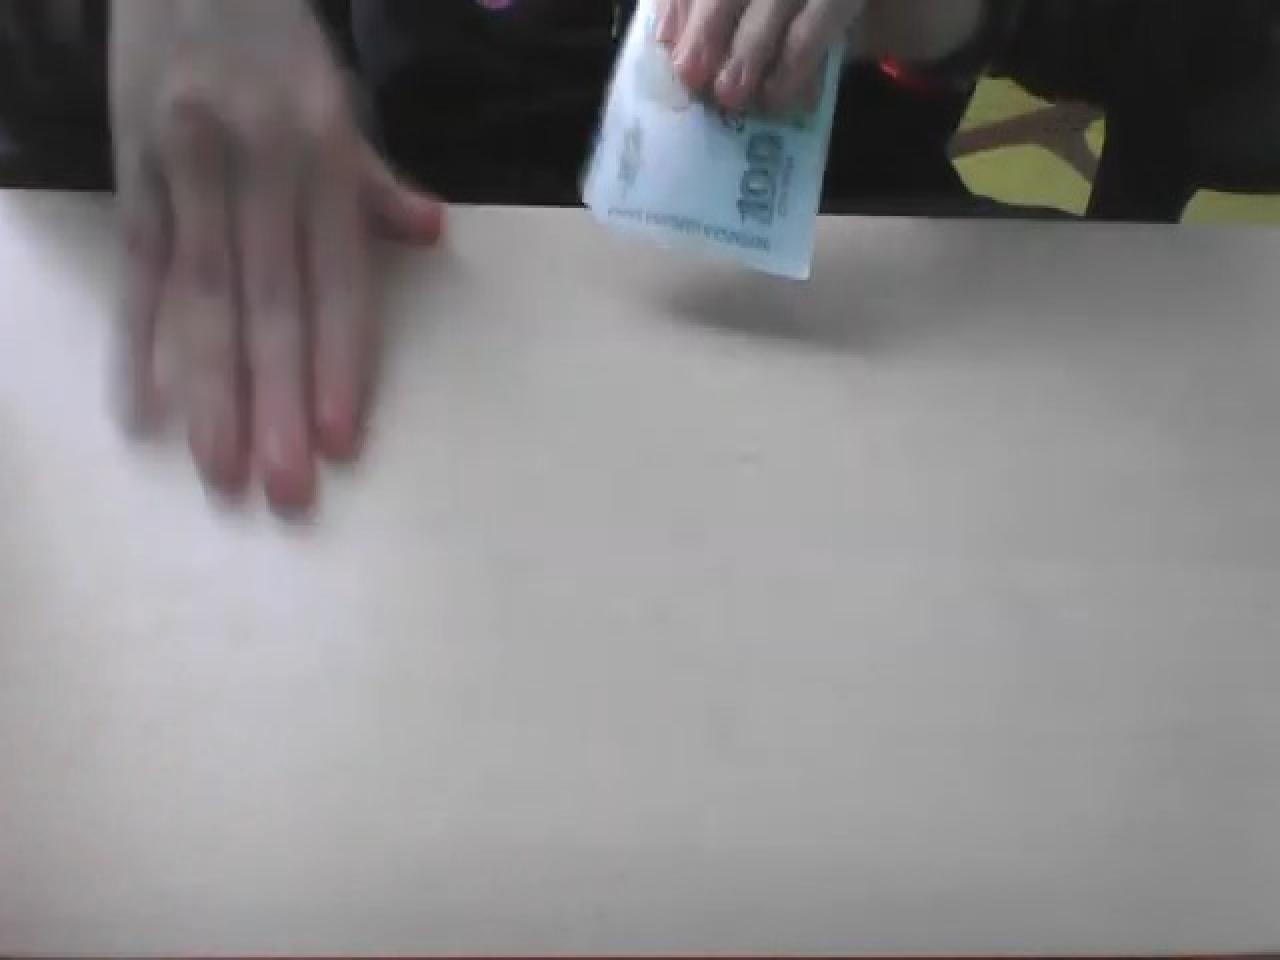100leva: (580, 0, 860, 282)
